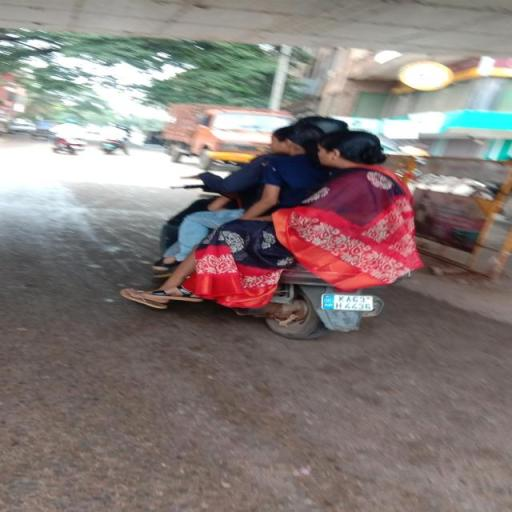tripple riding: (172, 110, 439, 246)
